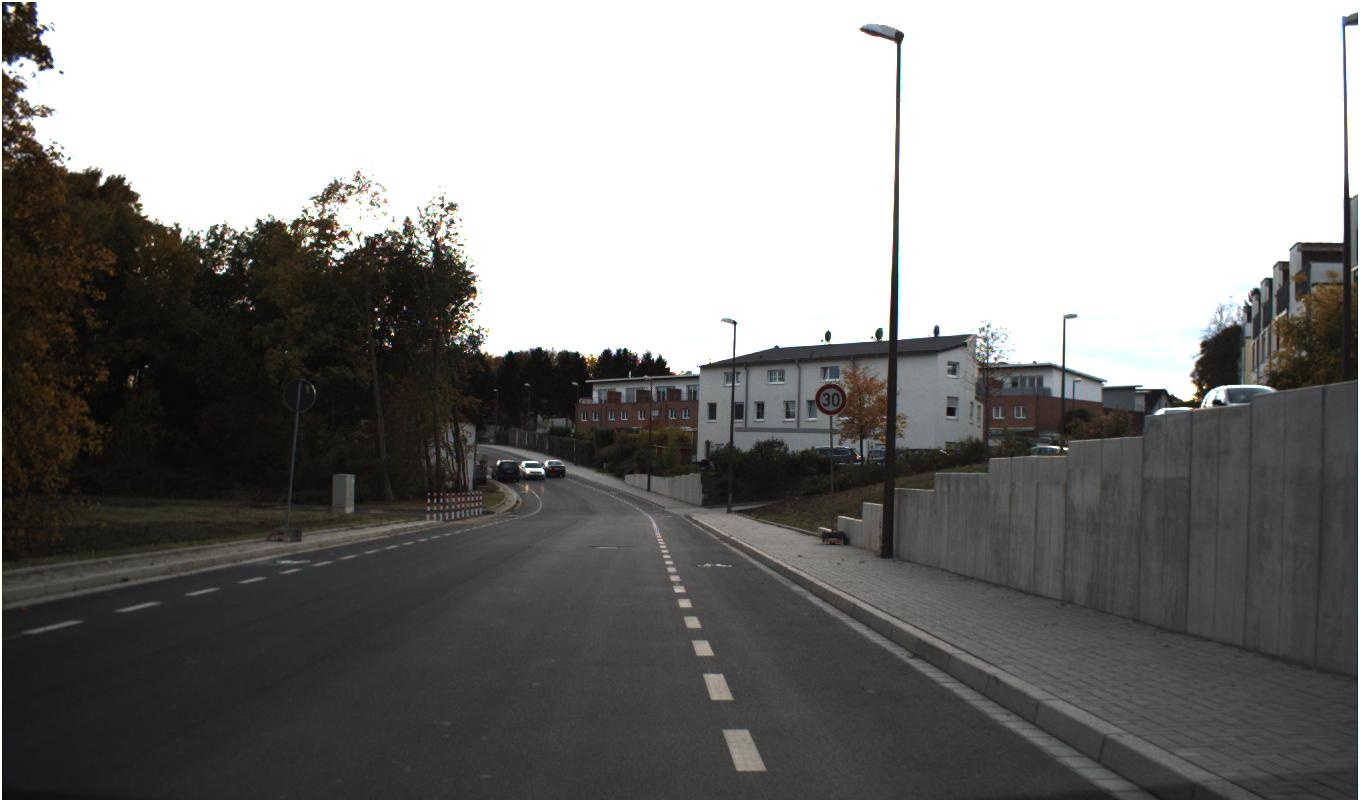prohibitory: (814, 382, 848, 416)
